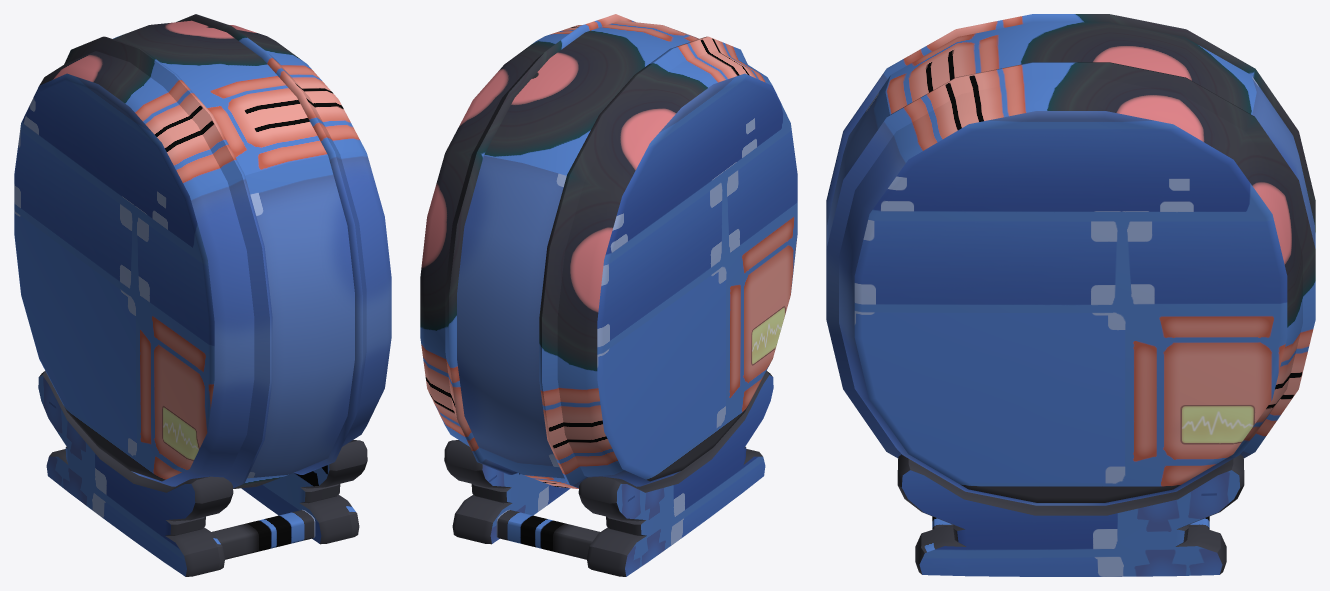
The model's file is Taiko_Drum_fbx.fbx.
3 renders of one model, left to right at view 1: azimuth 30°, elevation 25°; view 2: azimuth 150°, elevation 25°; view 3: azimuth 270°, elevation 25°, orthographic. The views are drawn at different scales.
Parts seen in each view (by area): view 1: Taiko_Drum_LOD0; view 2: Taiko_Drum_LOD0; view 3: Taiko_Drum_LOD0.
Part boxes in pixels (x1,y1,x2,y2): Taiko_Drum_LOD0: (14, 14, 391, 576); Taiko_Drum_LOD0: (420, 14, 797, 576); Taiko_Drum_LOD0: (826, 14, 1315, 576).
Size of the model in its own units: 27.99 by 66.04 by 59.42.
